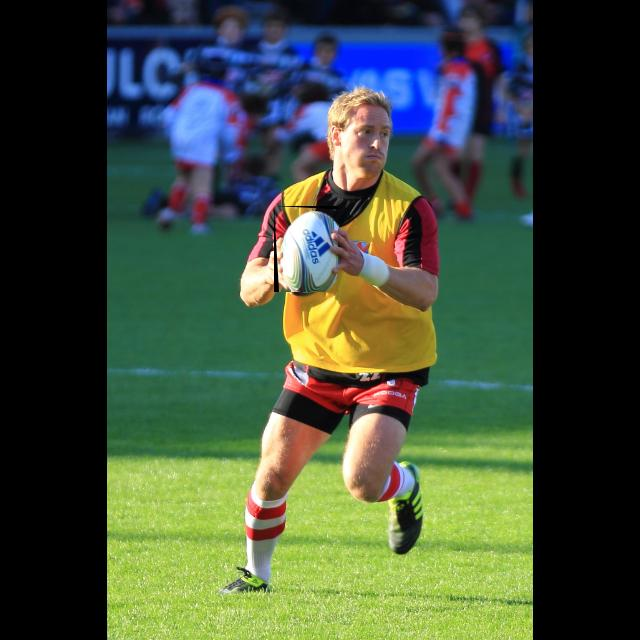Football: (274, 206, 338, 292)
